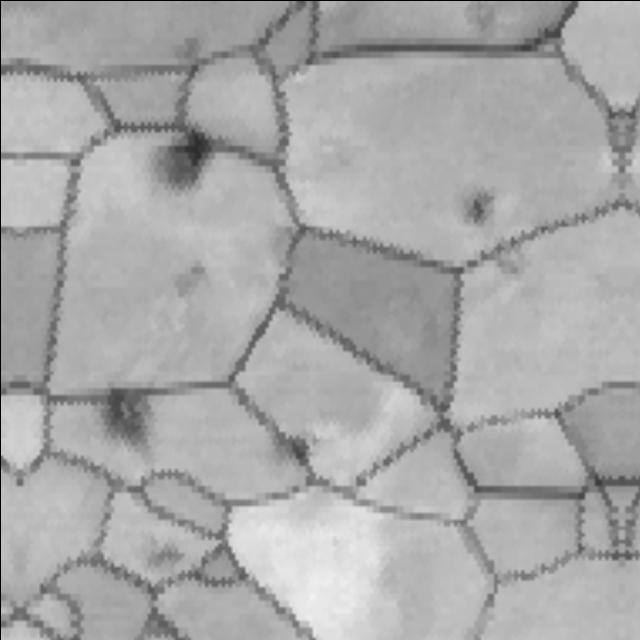good_void: (138, 117, 225, 204), (102, 375, 163, 456), (161, 253, 215, 308), (449, 179, 494, 242), (485, 240, 531, 288), (266, 429, 321, 468), (134, 532, 185, 574), (461, 0, 501, 35), (170, 35, 211, 68)
